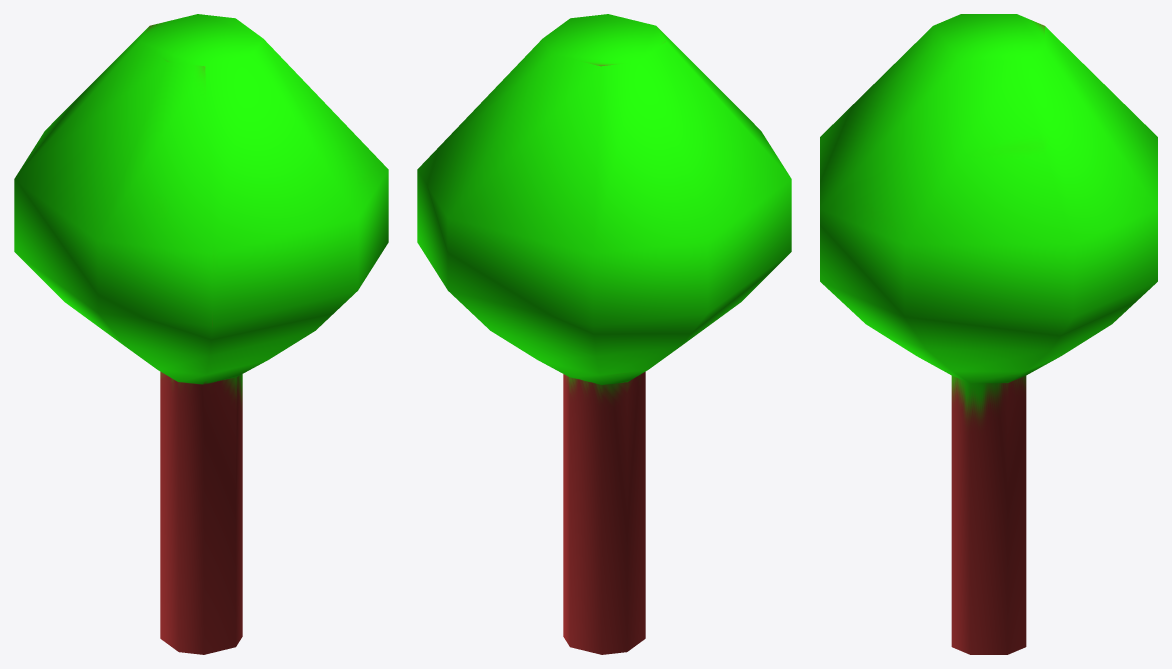
File: tree.glb
The picture shows the model from 3 angles, left to right: view 1: azimuth 30°, elevation 25°; view 2: azimuth 150°, elevation 25°; view 3: azimuth 270°, elevation 25°; orthographic projection.
Parts seen in each view (by area): view 1: Cube; view 2: Cube; view 3: Cube.
Part boxes in pixels (<box>): Cube: <box>14,14,388,654</box>; Cube: <box>417,14,791,654</box>; Cube: <box>820,14,1157,654</box>.
Bounding box in the file's own units: 1.86 × 3.65 × 1.86.
1 material, 1 textured.
